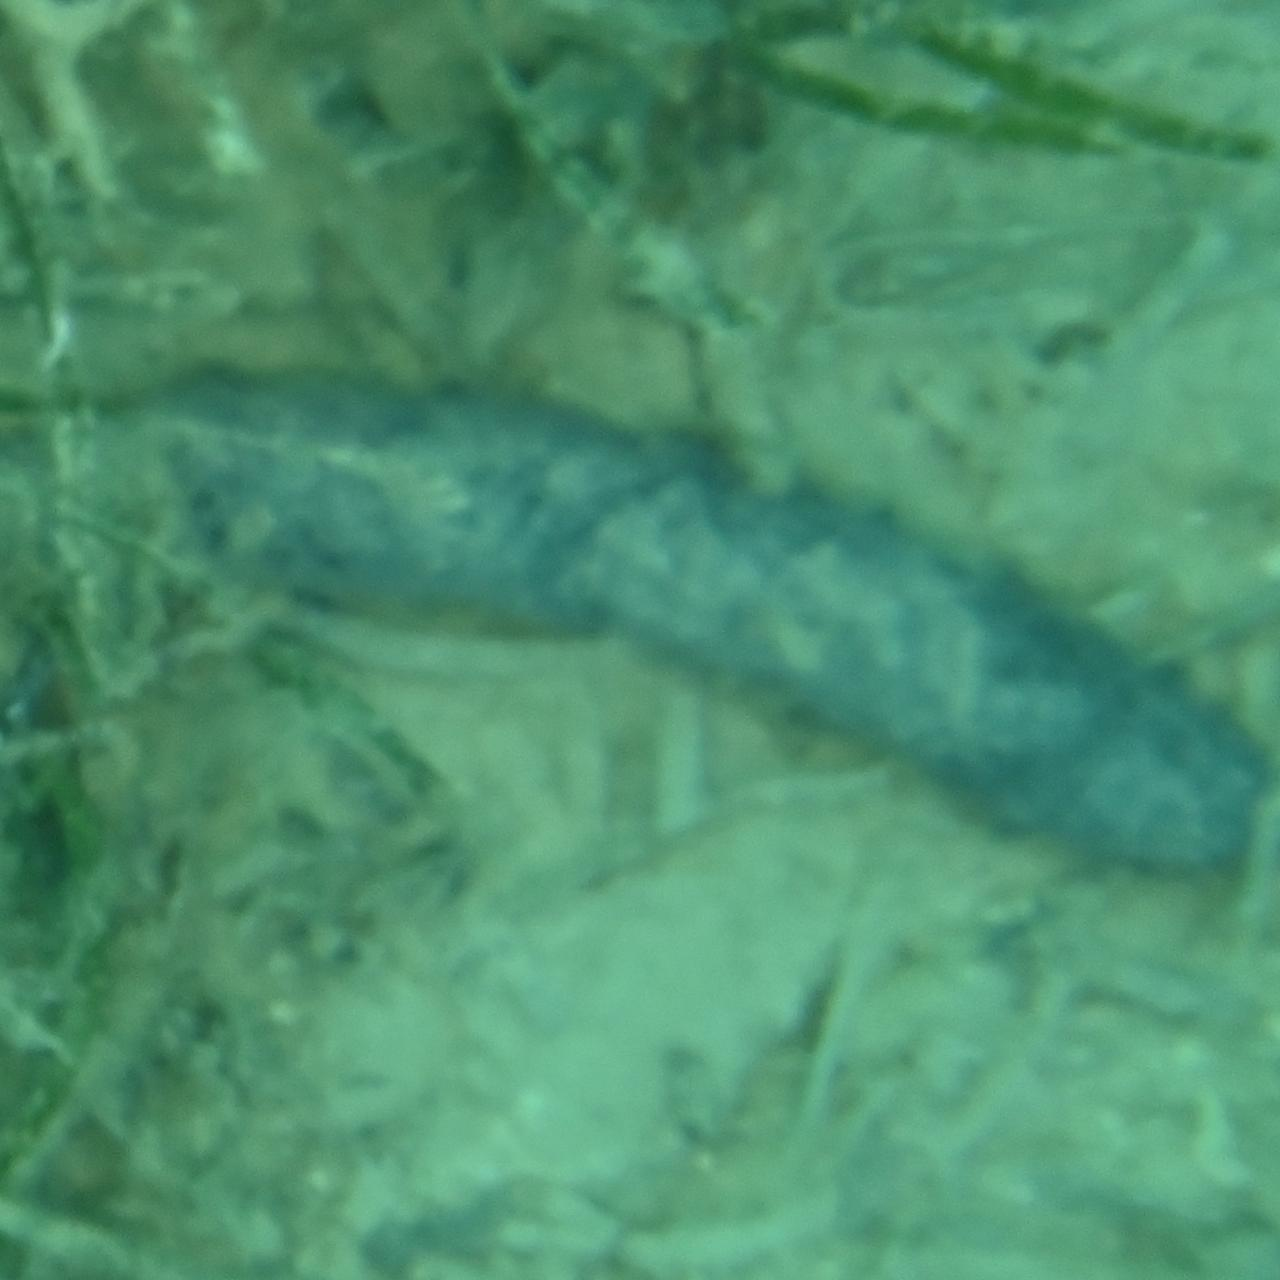Holothuria tubulosa: (0, 384, 1280, 896)
